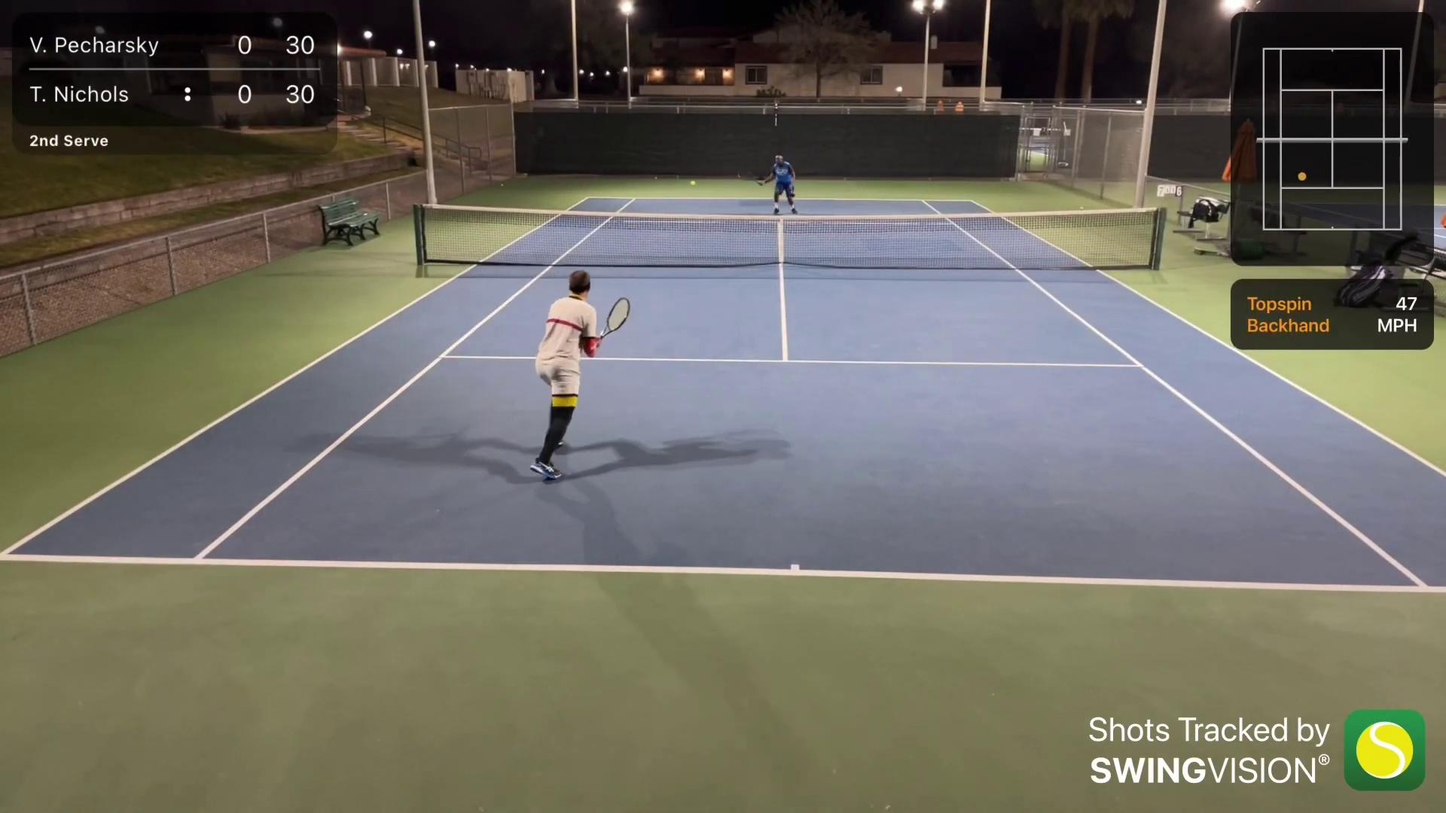ball: (691, 181, 697, 186), (653, 176, 659, 181), (498, 183, 505, 187)
